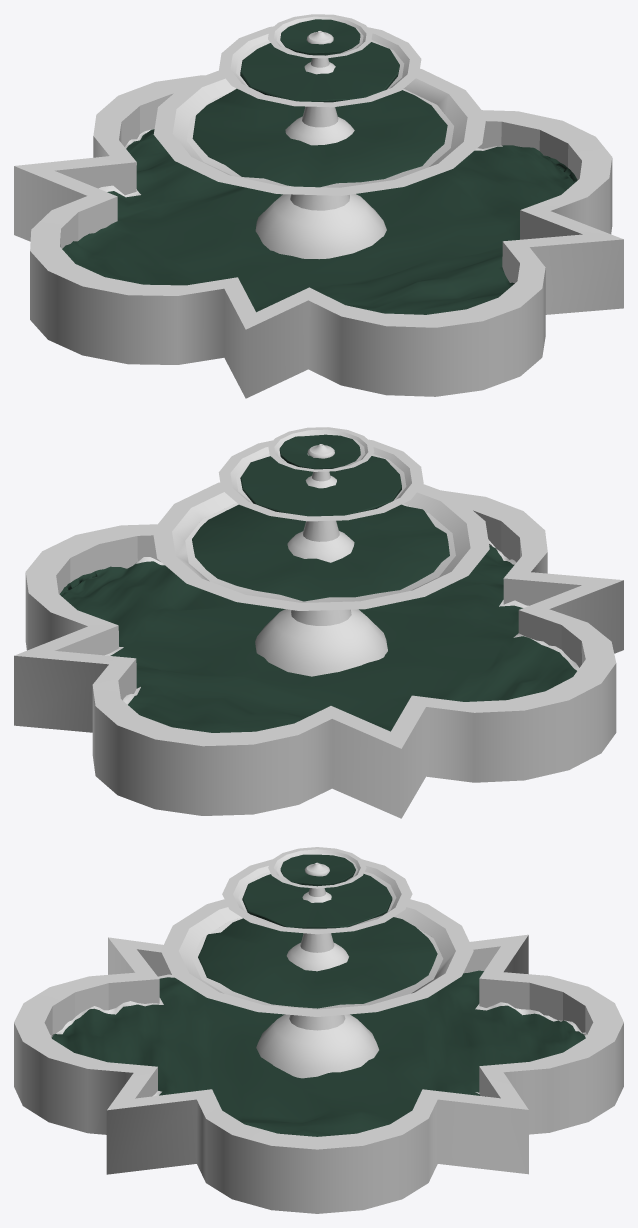
The model's file is fountain.fbx.
3 views of the same model, one above another, from view 1: azimuth 30°, elevation 25°; view 2: azimuth 150°, elevation 25°; view 3: azimuth 270°, elevation 25° (orthographic). The views are drawn at different scales.
Visible parts, largest first — view 1: base, Circle.001, Circle.002, Circle.004, Circle.003, Circle.005, Circle.006; view 2: base, Circle.001, Circle.002, Circle.004, Circle.003, Circle.005, Circle.006; view 3: base, Circle.001, Circle.002, Circle.004, Circle.003, Circle.005, Circle.006.
Part boxes in pixels (left/top/right/bottom): base: left=14, top=75, right=623, bottom=398; Circle.001: left=153, top=68, right=486, bottom=259; Circle.002: left=192, top=88, right=447, bottom=187; Circle.004: left=240, top=42, right=399, bottom=102; Circle.003: left=219, top=26, right=421, bottom=145; Circle.005: left=268, top=14, right=372, bottom=74; Circle.006: left=280, top=19, right=360, bottom=55; base: left=14, top=490, right=623, bottom=818; Circle.001: left=153, top=482, right=489, bottom=676; Circle.002: left=192, top=504, right=449, bottom=601; Circle.004: left=240, top=456, right=401, bottom=516; Circle.003: left=218, top=439, right=423, bottom=562; Circle.005: left=268, top=427, right=374, bottom=488; Circle.006: left=279, top=434, right=360, bottom=469; base: left=14, top=934, right=623, bottom=1213; Circle.001: left=161, top=899, right=473, bottom=1078; Circle.002: left=198, top=917, right=437, bottom=1008; Circle.004: left=242, top=874, right=392, bottom=928; Circle.003: left=222, top=859, right=412, bottom=971; Circle.005: left=268, top=847, right=366, bottom=902; Circle.006: left=280, top=854, right=355, bottom=886.
Size of the model in its own units: 858 by 360 by 884.
